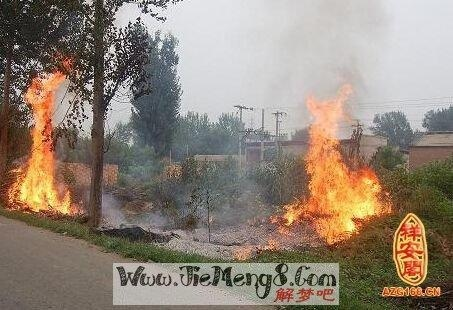fire: (274, 81, 391, 243), (7, 55, 77, 215)
